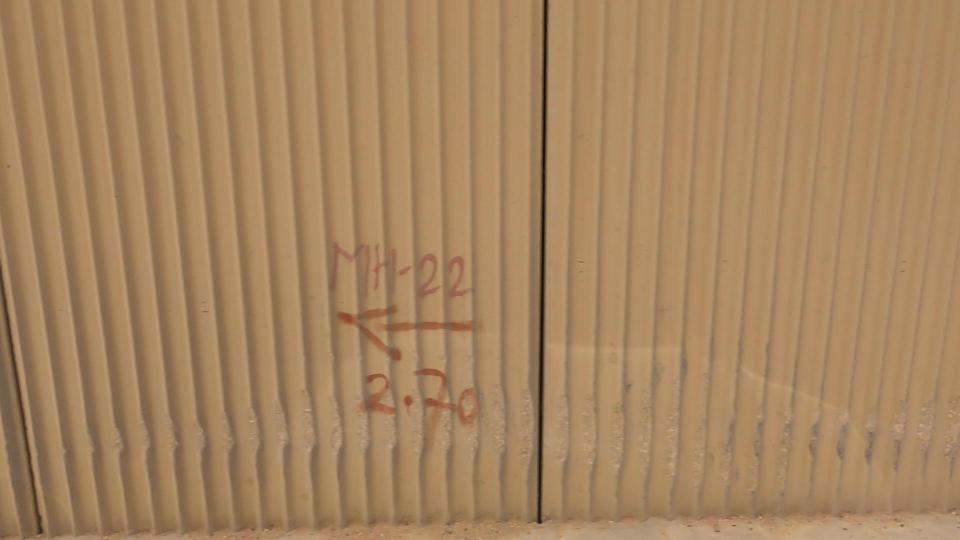GRAFFITI: (200, 124, 606, 536)
